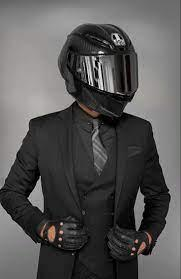helmet: (57, 24, 154, 135)
